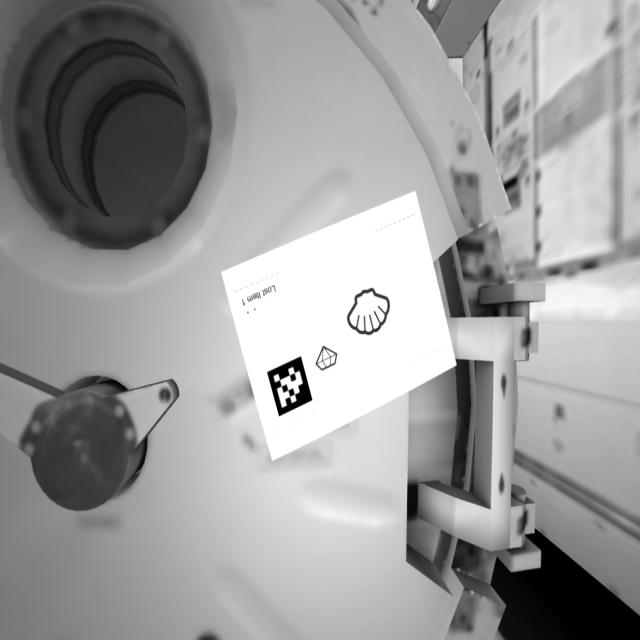diamond: (309, 340, 343, 378)
shell: (342, 276, 399, 347)
